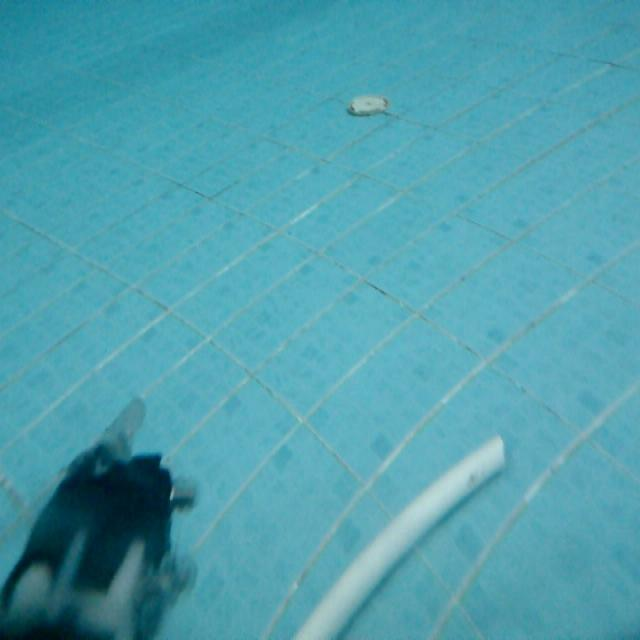Cube: (273, 428, 509, 639)
